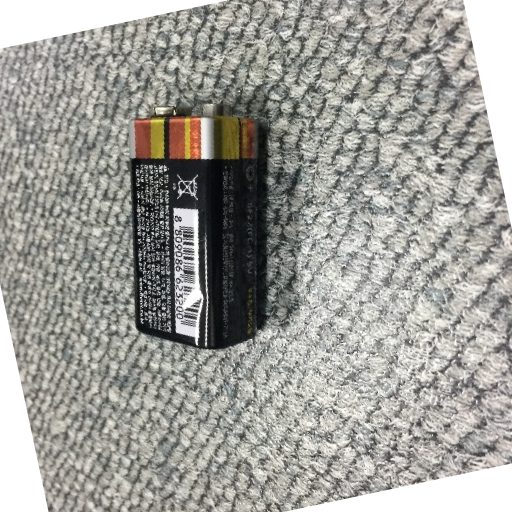Battery_3: (117, 94, 279, 368)
